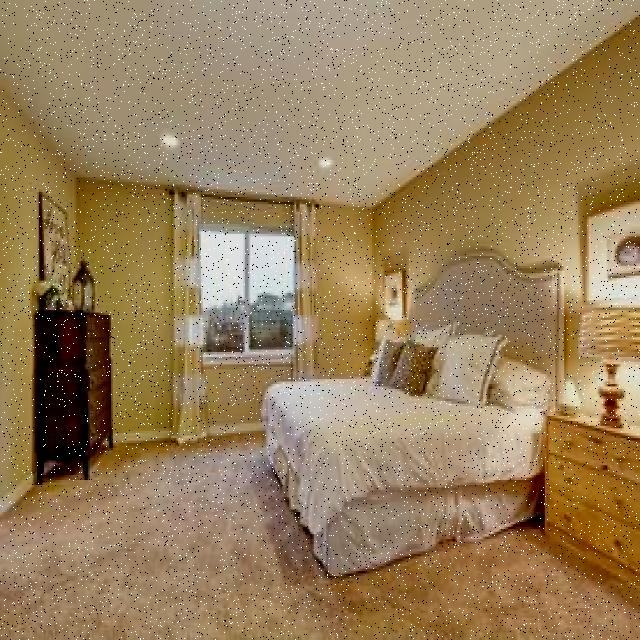bed: (263, 303, 552, 561)
